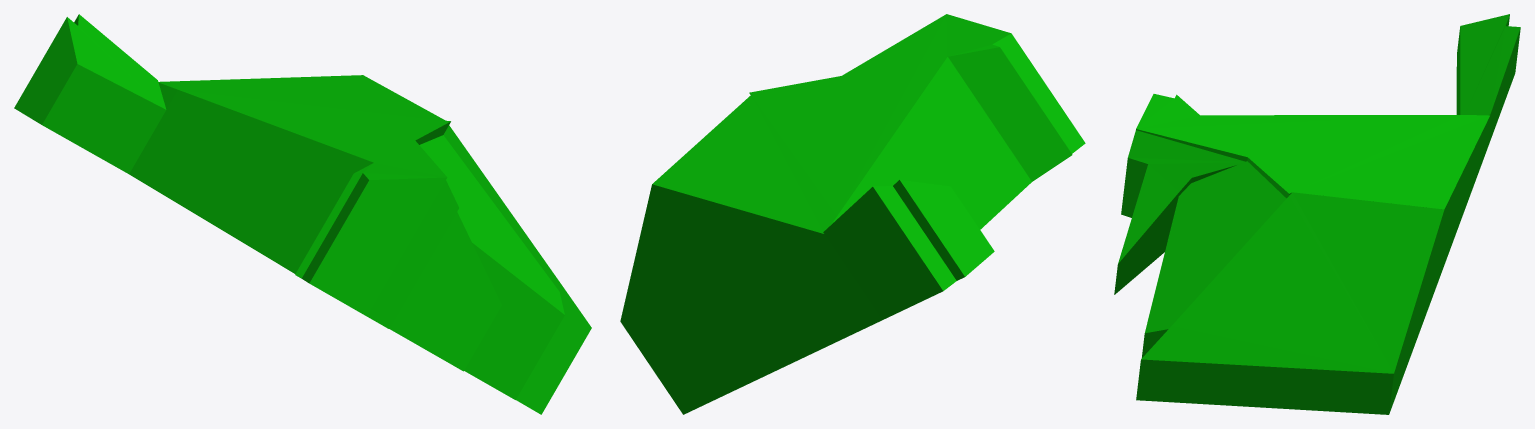
The picture shows the model from 3 angles, left to right: view 1: azimuth 30°, elevation 25°; view 2: azimuth 150°, elevation 25°; view 3: azimuth 270°, elevation 25°; orthographic projection. The views are drawn at different scales.
Visible parts, largest first — view 1: mesh; view 2: mesh; view 3: mesh.
Part boxes in pixels (x1,y1,x2,y2): mesh: [14, 14, 591, 414]; mesh: [620, 14, 1085, 414]; mesh: [1114, 14, 1520, 414].
Bounding box in the file's own units: 12.63 × 10.53 × 13.49.
